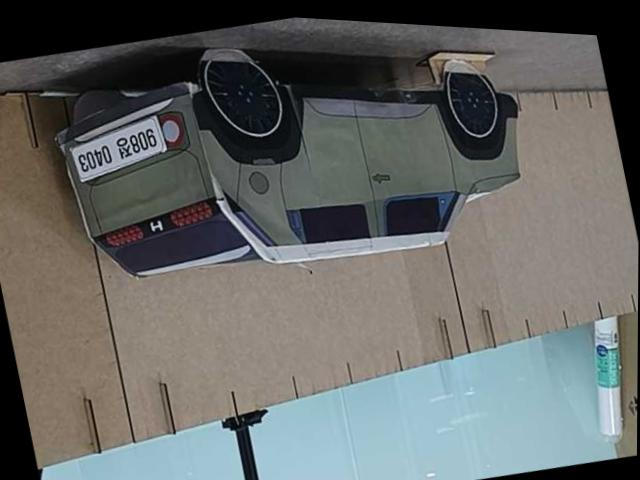car: (37, 2, 548, 330)
id: (59, 109, 172, 189)
